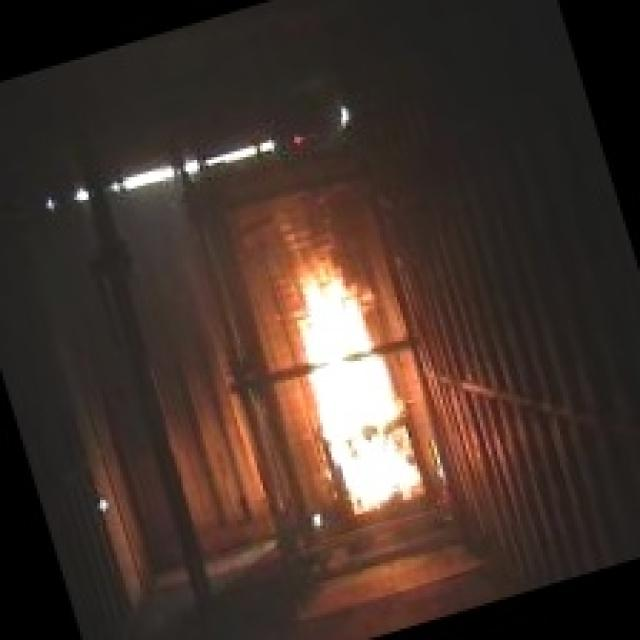fire: (247, 194, 453, 537)
